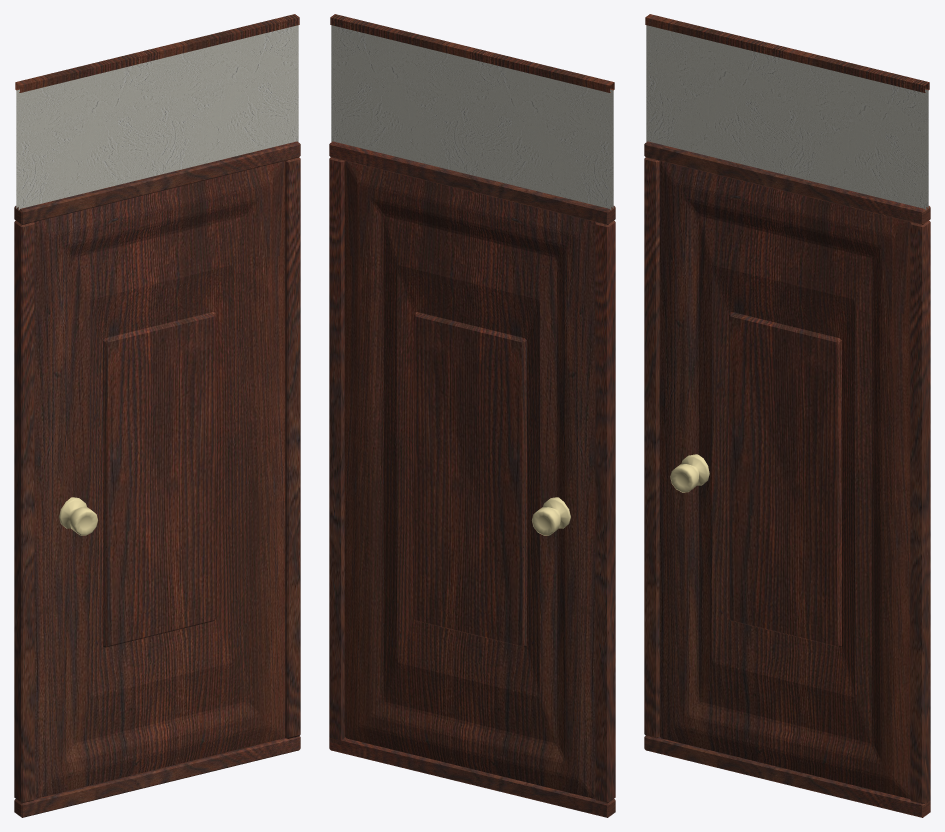
File: Door.fbx
3 renders of one model, left to right at view 1: azimuth 30°, elevation 25°; view 2: azimuth 150°, elevation 25°; view 3: azimuth 330°, elevation 25°, orthographic.
Parts seen in each view (by area): view 1: door, wallpaper, frame, wood, knob; view 2: door, wallpaper, frame, wood, knob; view 3: door, wallpaper, frame, wood, knob.
Boxes of the visible parts, bbox=[...] form: door: bbox=[34, 161, 285, 798]; wallpaper: bbox=[16, 25, 298, 210]; frame: bbox=[14, 141, 300, 817]; wood: bbox=[15, 14, 299, 92]; knob: bbox=[59, 497, 97, 535]; door: bbox=[344, 161, 595, 798]; wallpaper: bbox=[331, 25, 613, 210]; frame: bbox=[329, 141, 615, 817]; wood: bbox=[330, 14, 614, 92]; knob: bbox=[532, 497, 570, 535]; door: bbox=[659, 161, 910, 798]; wallpaper: bbox=[646, 25, 928, 210]; frame: bbox=[644, 141, 930, 817]; wood: bbox=[645, 14, 929, 92]; knob: bbox=[670, 454, 709, 492].
Bounding box in the file's own units: 400 × 1000 × 87.69.
